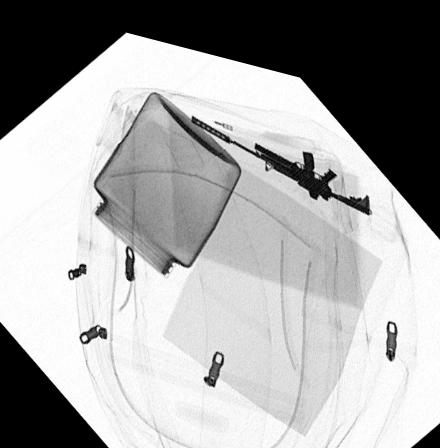Gun: (187, 102, 371, 195)
